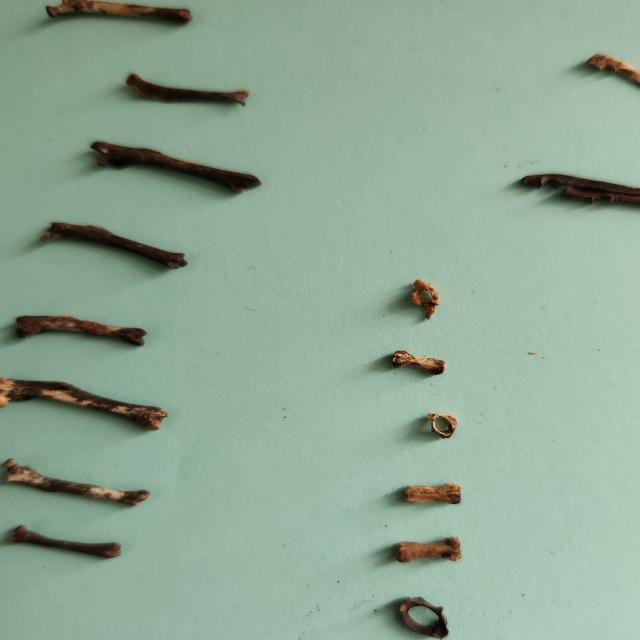fossil: (0, 368, 182, 438), (84, 134, 266, 198), (34, 215, 198, 276), (1, 452, 160, 510), (10, 307, 158, 353), (116, 67, 255, 114), (0, 520, 133, 564), (39, 0, 200, 32), (516, 168, 640, 200), (582, 50, 640, 114), (386, 592, 462, 640), (386, 532, 472, 570), (397, 476, 473, 514), (383, 342, 455, 379), (404, 276, 452, 324), (552, 185, 640, 211), (418, 409, 476, 443)
